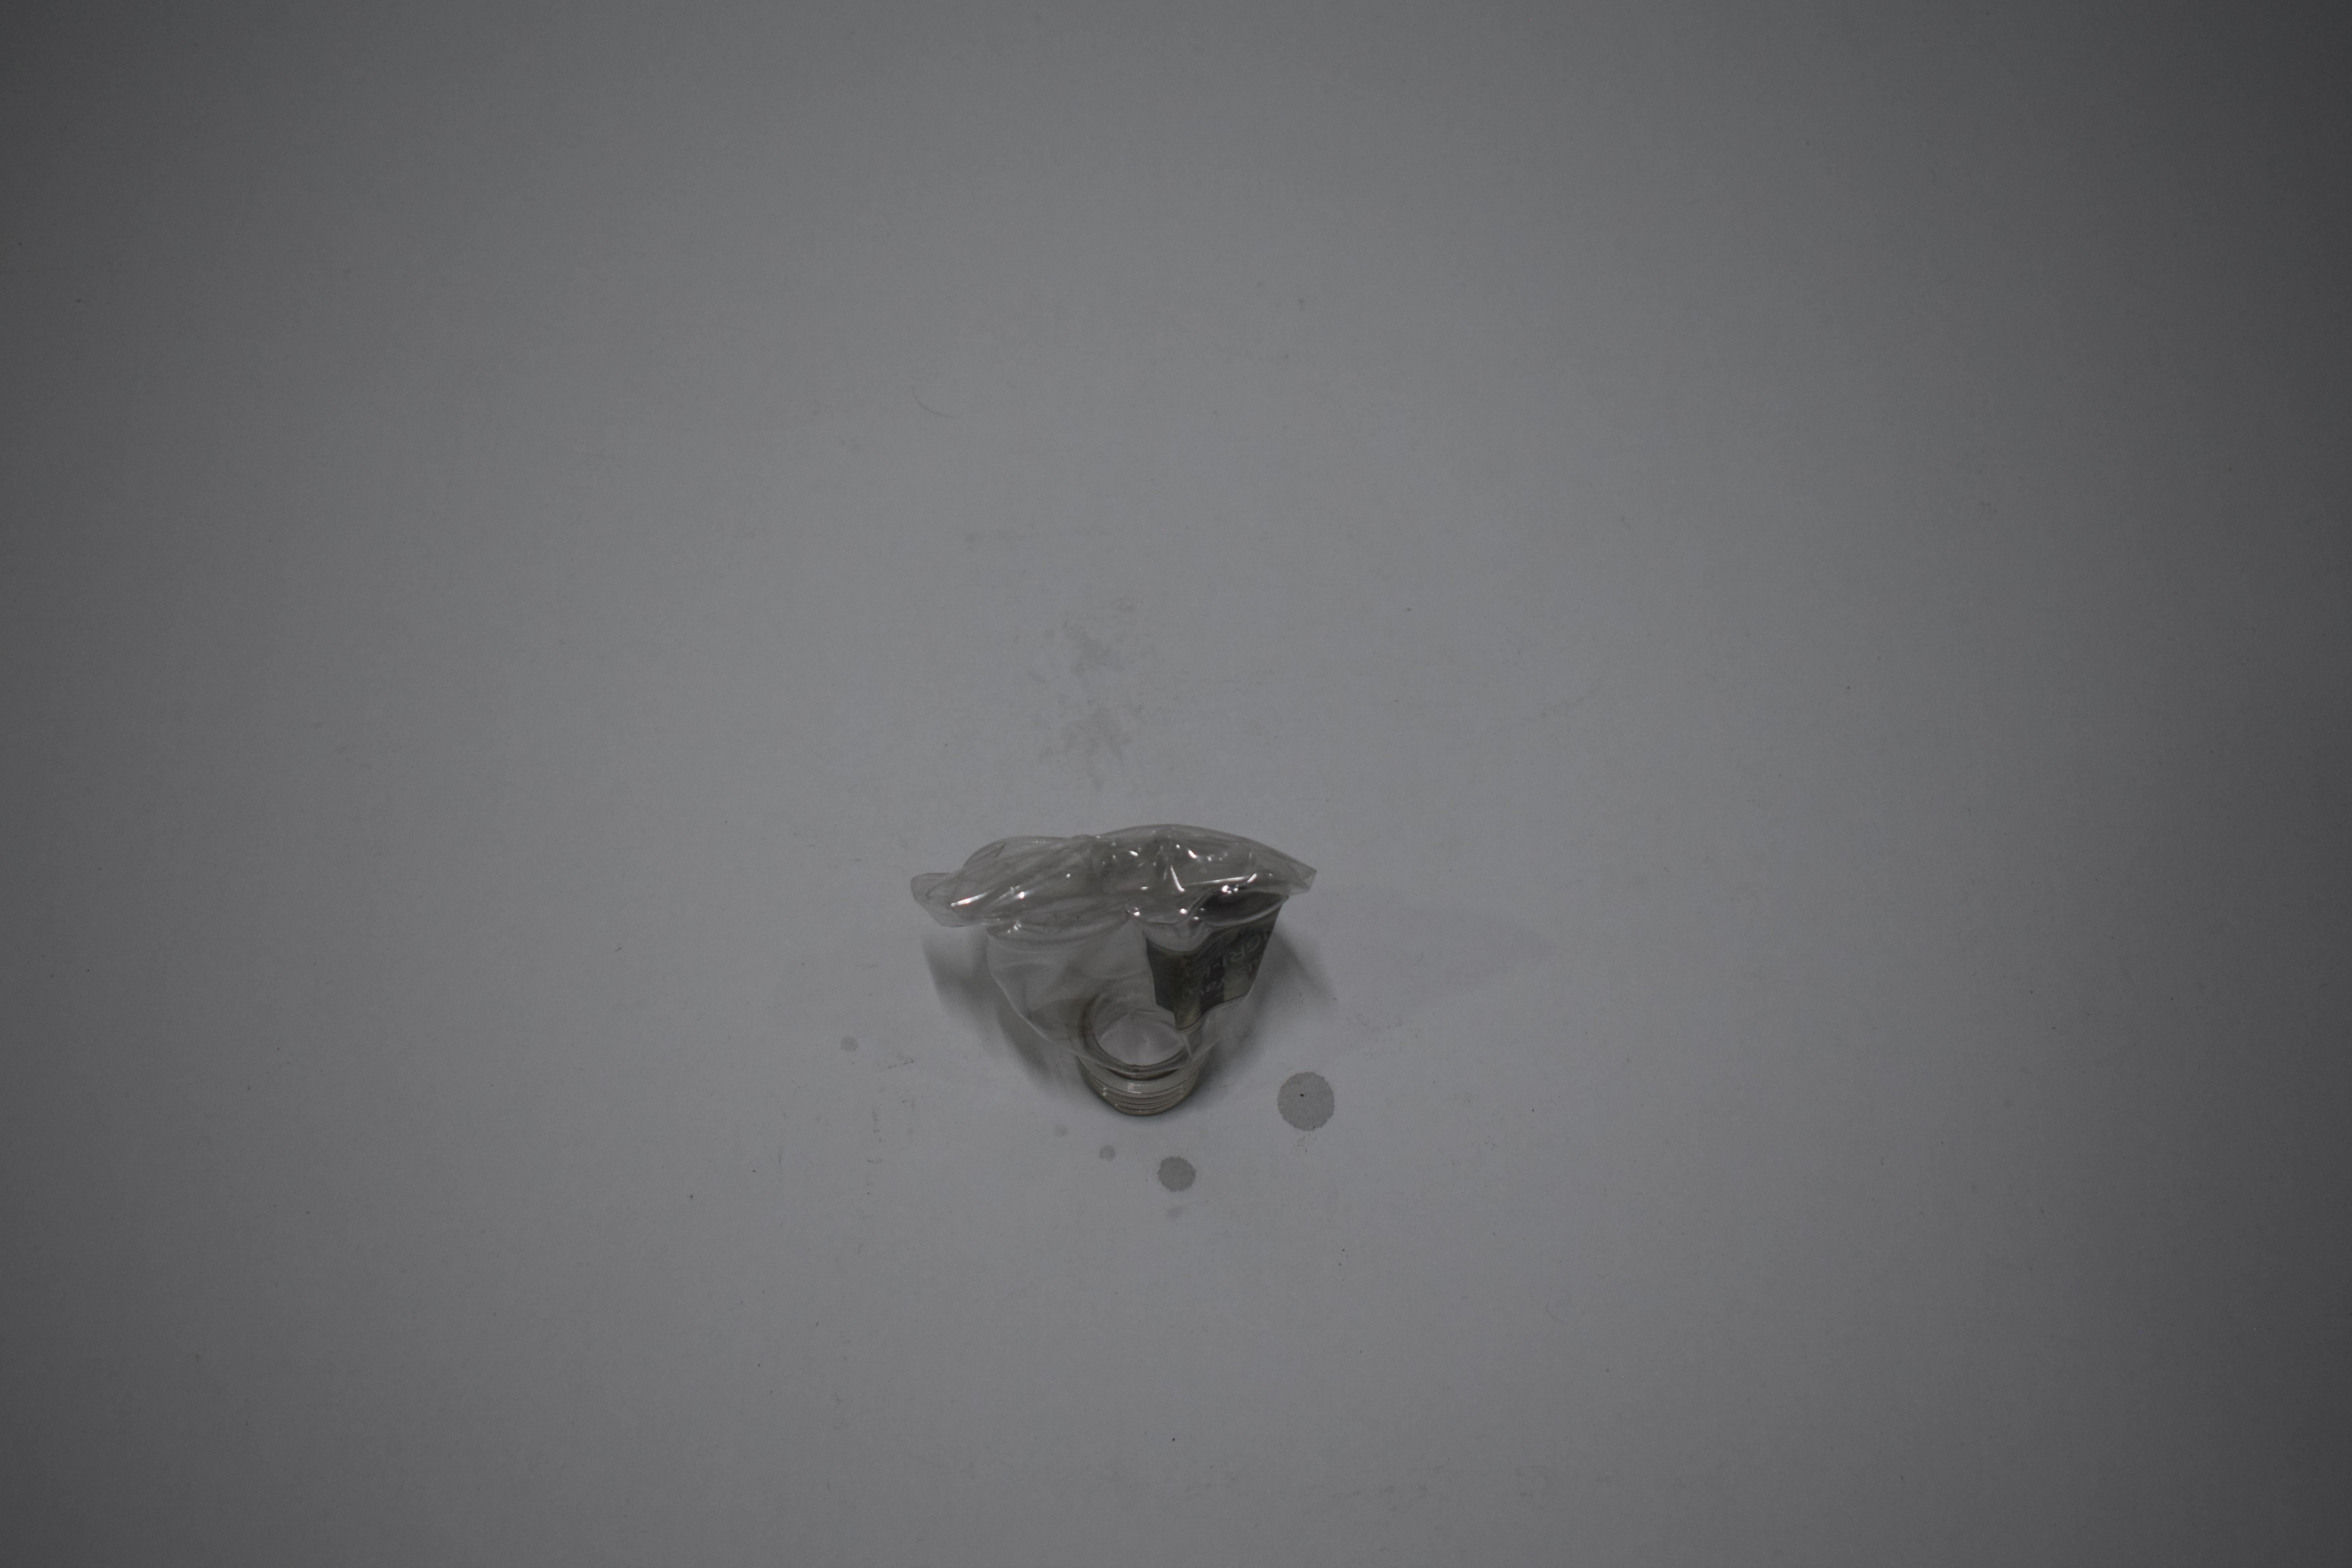bottle: (896, 803, 1323, 1129)
